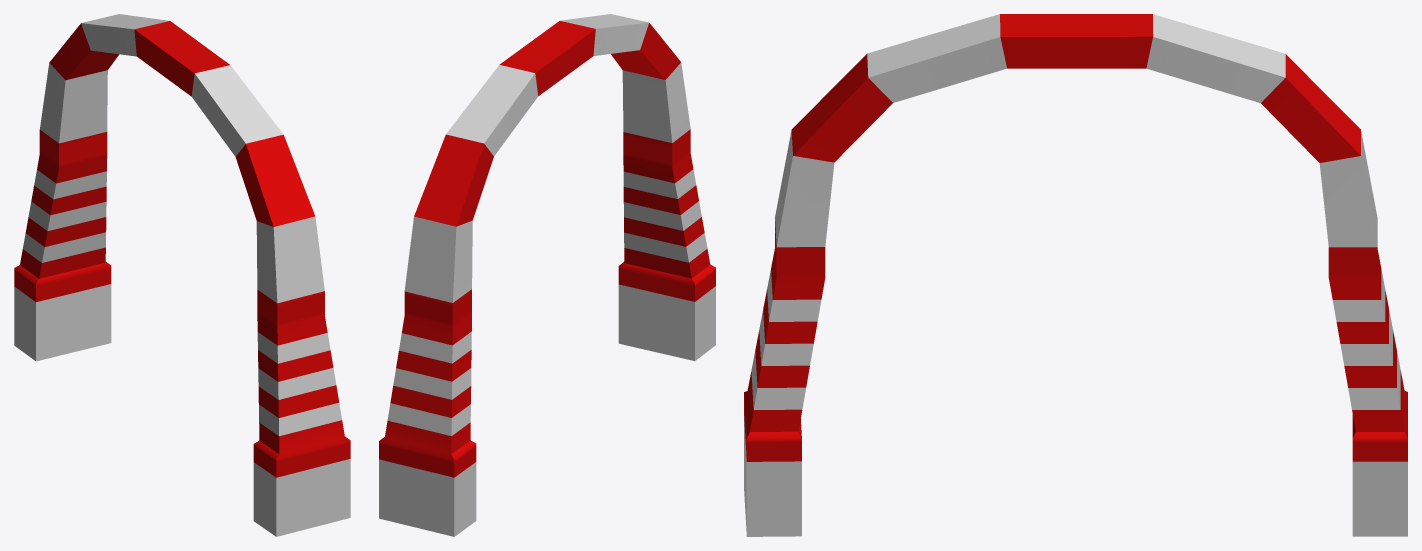
File: race_gate.fbx
The picture shows the model from 3 angles, left to right: view 1: azimuth 30°, elevation 25°; view 2: azimuth 150°, elevation 25°; view 3: azimuth 270°, elevation 25°; orthographic projection. The views are drawn at different scales.
Parts seen in each view (by area): view 1: polySurface1; view 2: polySurface1; view 3: polySurface1.
Boxes of the visible parts, <box> form: polySurface1: <box>14,14,350,536</box>; polySurface1: <box>379,14,715,536</box>; polySurface1: <box>744,14,1407,536</box>.
Bounding box in the file's own units: 4.05 × 19.53 × 24.06.
